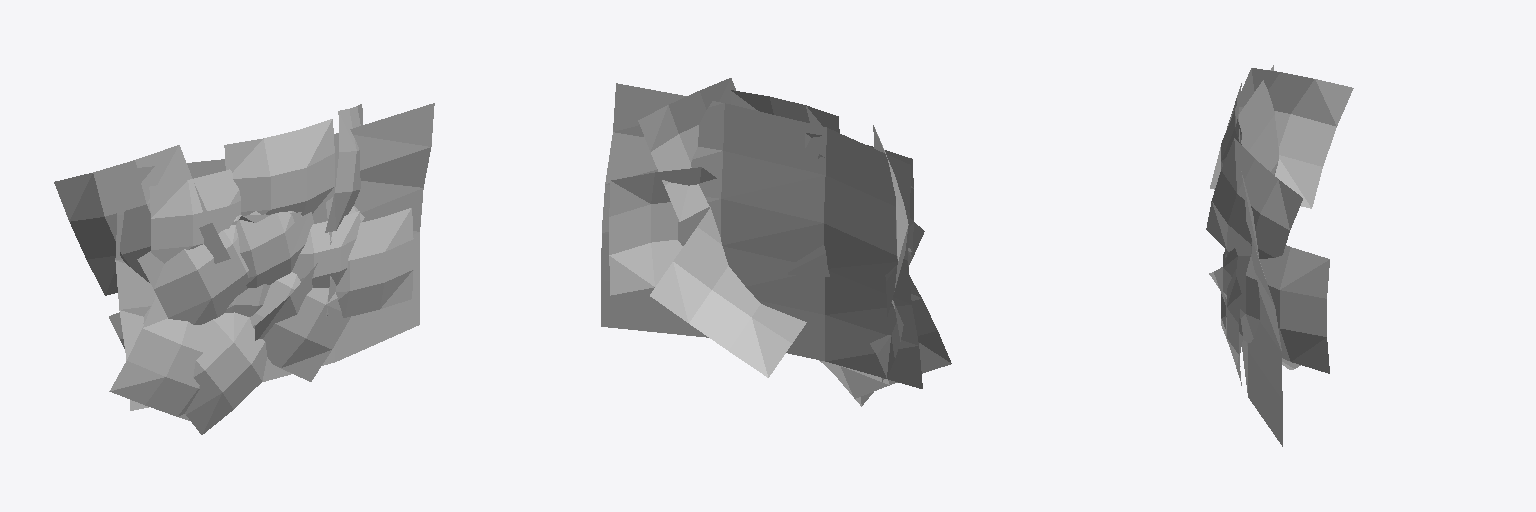
The model's file is bushes03_01.obj.
The picture shows the model from 3 angles: view 1: azimuth 30°, elevation 25°; view 2: azimuth 150°, elevation 25°; view 3: azimuth 270°, elevation 25°; orthographic projection.
Parts seen in each view (by area): view 1: bushes03_01; view 2: bushes03_01; view 3: bushes03_01.
Boxes of the visible parts, <box> form: bushes03_01: <box>54,103,434,434</box>; bushes03_01: <box>601,78,951,406</box>; bushes03_01: <box>1206,65,1353,446</box>.
Size of the model in its own units: 124 by 105 by 47.95.